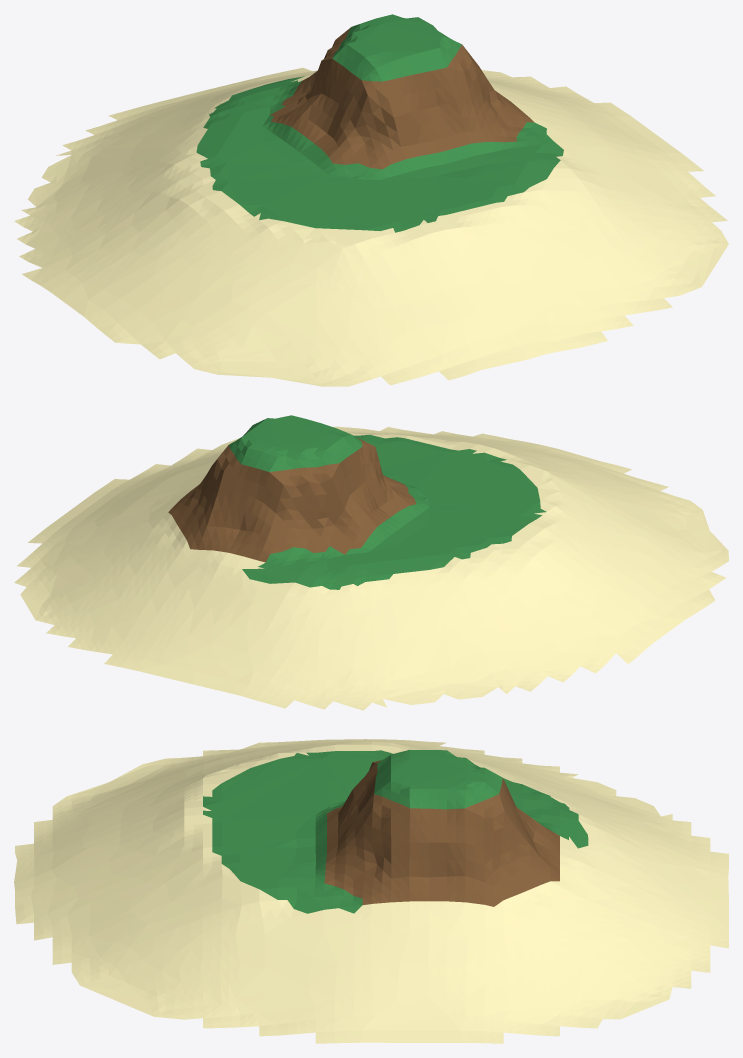
Rendered from islandNew1.fbx.
3 views of the same model, one above another, from view 1: azimuth 30°, elevation 25°; view 2: azimuth 150°, elevation 25°; view 3: azimuth 270°, elevation 25° (orthographic). The views are drawn at different scales.
Visible parts, largest first — view 1: Plane.004; view 2: Plane.004; view 3: Plane.004.
Boxes of the visible parts, x1,y1,x2,y2 form: Plane.004: [14, 14, 728, 386]; Plane.004: [14, 415, 728, 710]; Plane.004: [14, 739, 728, 1043].
Bounding box in the file's own units: 1185 × 279 × 1186.
